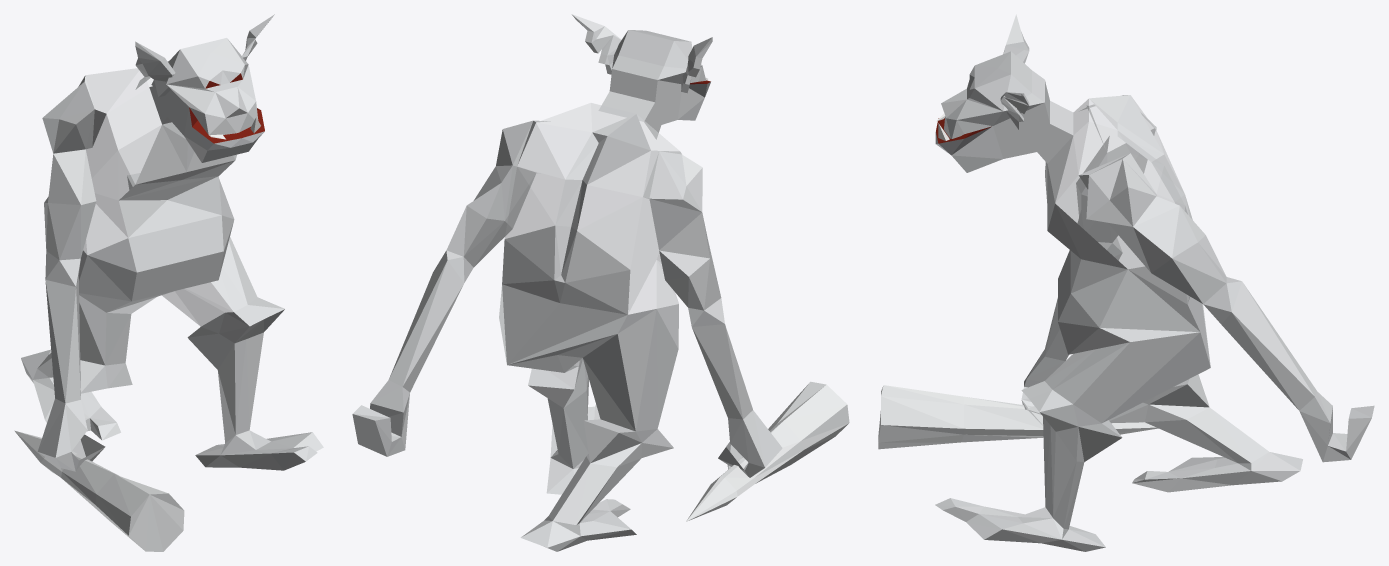
The model's file is ice_troll.gltf.
The picture shows the model from 3 angles, left to right: view 1: azimuth 30°, elevation 25°; view 2: azimuth 150°, elevation 25°; view 3: azimuth 270°, elevation 25°; orthographic projection. The views are drawn at different scales.
Bounding box in the file's own units: 124 × 202 × 191.
2 materials, 2 textured.
